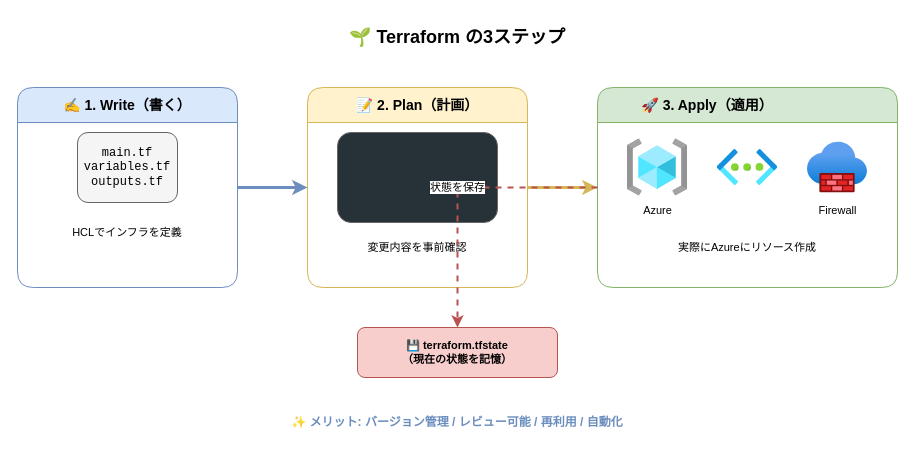
The diagram is 915 pixels wide and 454 high, and some of its shapes have lost their labels. The centre of each missing label's shape, as x and y in pixels:
"$ terraform plan + resource_group + virtual_network ~ firewall" goes at point 417,177.
"VNet" goes at point 747,167.
